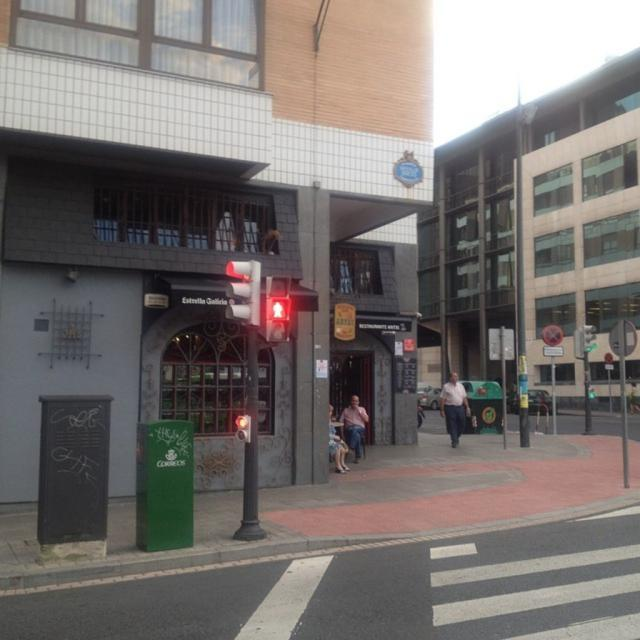road_sign: (545, 326, 561, 344)
traffic light: (227, 258, 261, 328), (264, 275, 296, 339)
